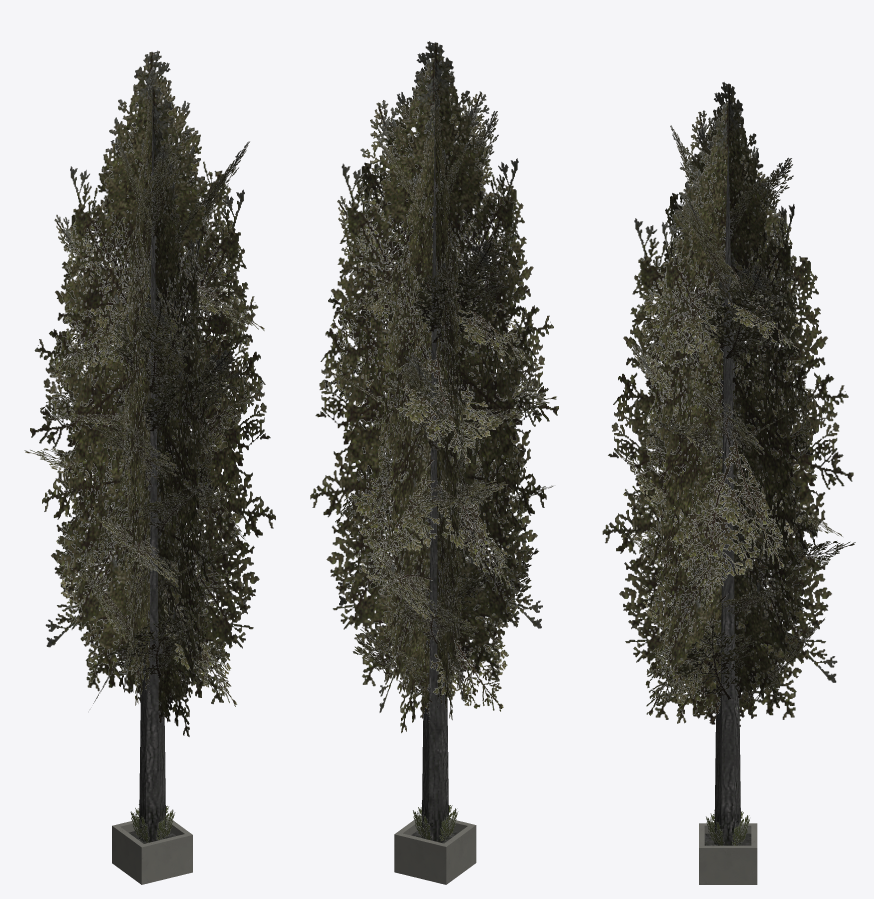
The model's file is tree_2.fbx.
3 views of the same model, side by side, from view 1: azimuth 30°, elevation 25°; view 2: azimuth 150°, elevation 25°; view 3: azimuth 270°, elevation 25° (orthographic). The views are drawn at different scales.
Visible parts, largest first — view 1: tree_2; view 2: tree_2; view 3: tree_2.
Part boxes in pixels (x1,y1,x2,y2): tree_2: (24, 50, 275, 884); tree_2: (310, 41, 558, 884); tree_2: (602, 82, 855, 884).
Bounding box in the file's own units: 444 × 1523 × 443.
